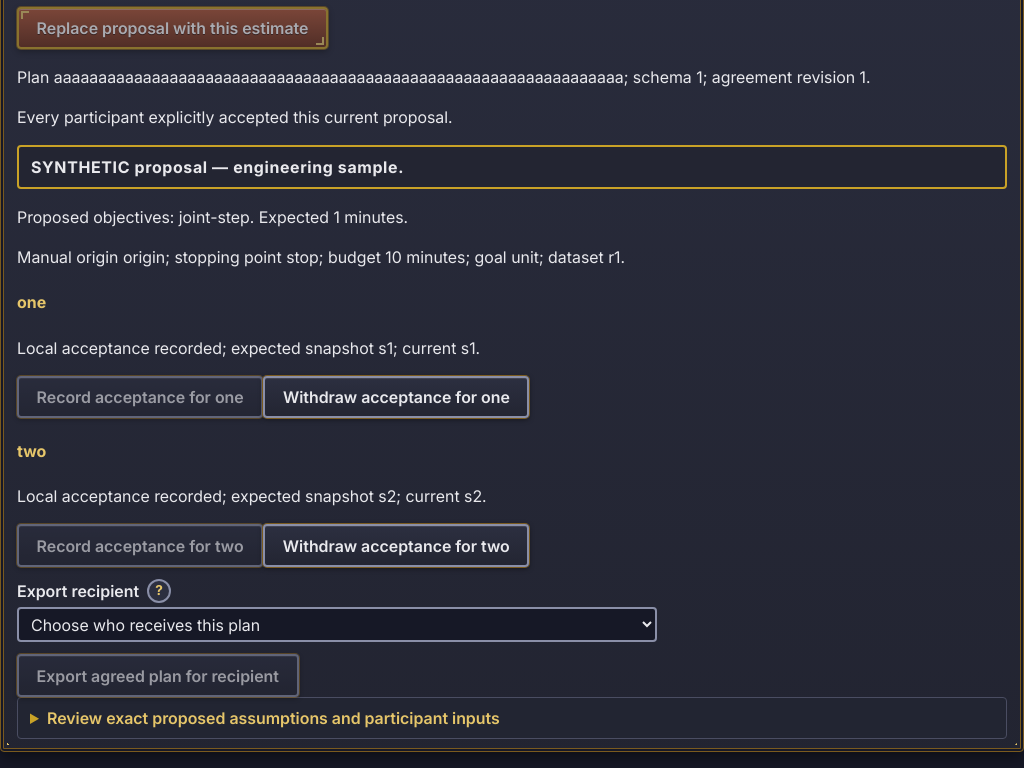
Test case: backend export refusal refreshes authoritative agreement and exposes no export bytes
(page scrolled)
Expected: the text "Every participant explicitly accepted this current proposal." is shown, [17, 107, 452, 127]
Select "one" in the dropdown labelled "Export recipient": (337, 625) [17, 607, 657, 642]
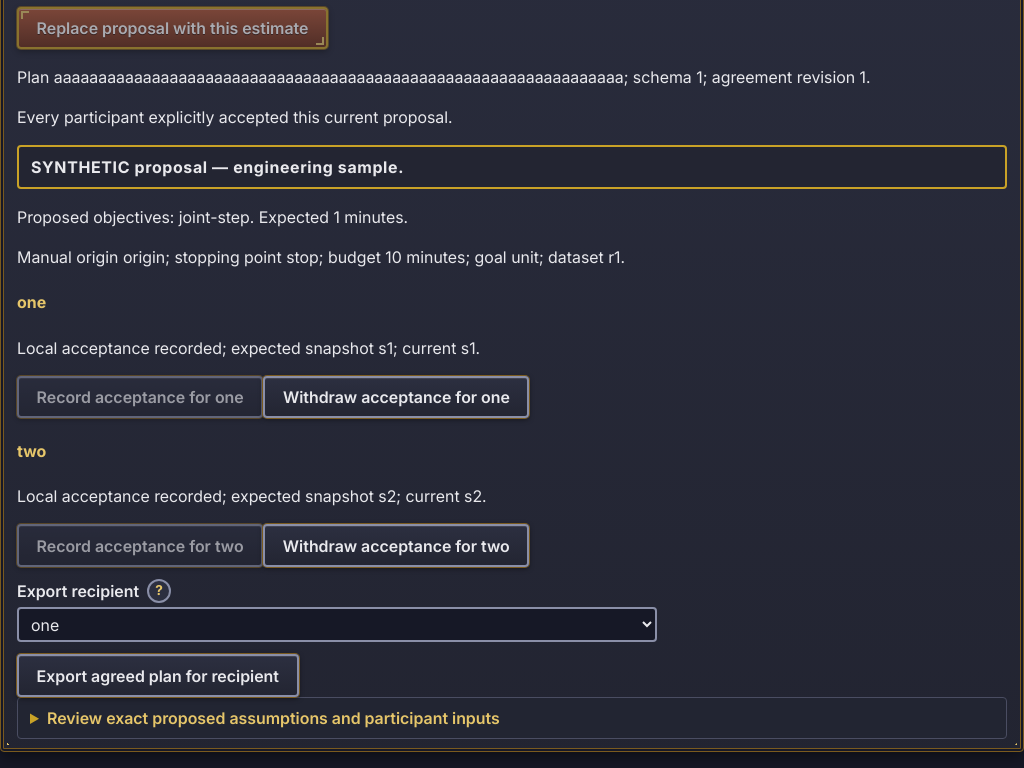
Click the button "Export agreed plan for recipient": (158, 676) [17, 654, 299, 697]
(page scrolled)
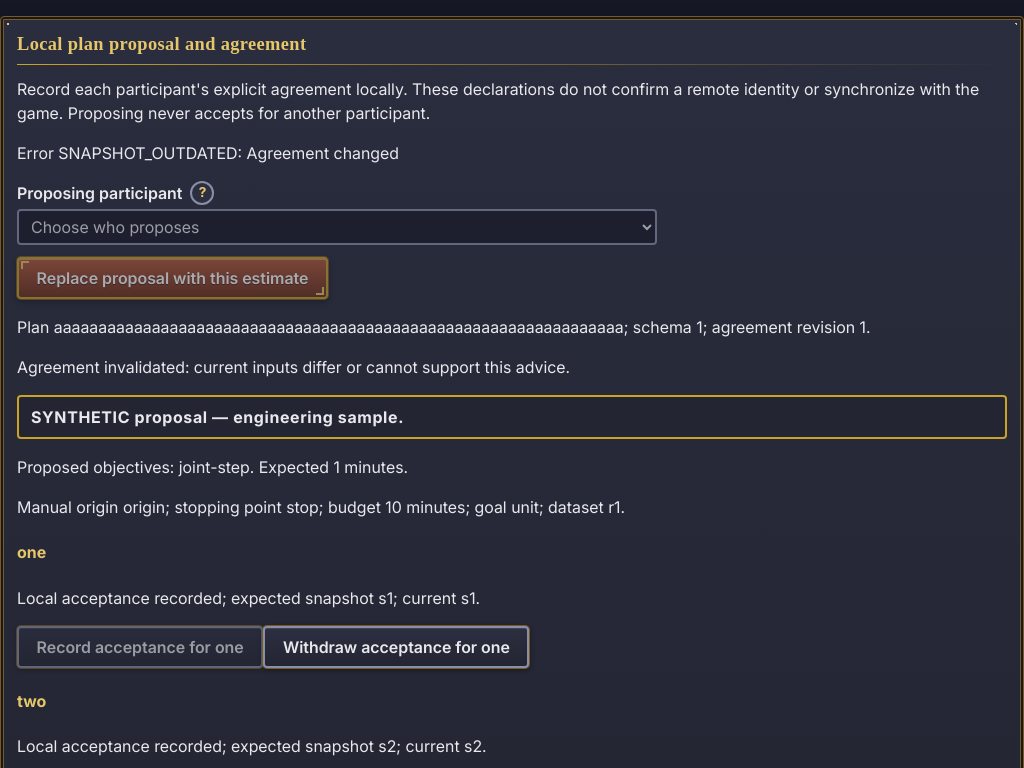
Expected: the text "Agreement invalidated" is shown, [17, 357, 570, 377]
Expected: the message shows "Agreement changed", [246, 143, 399, 163]
